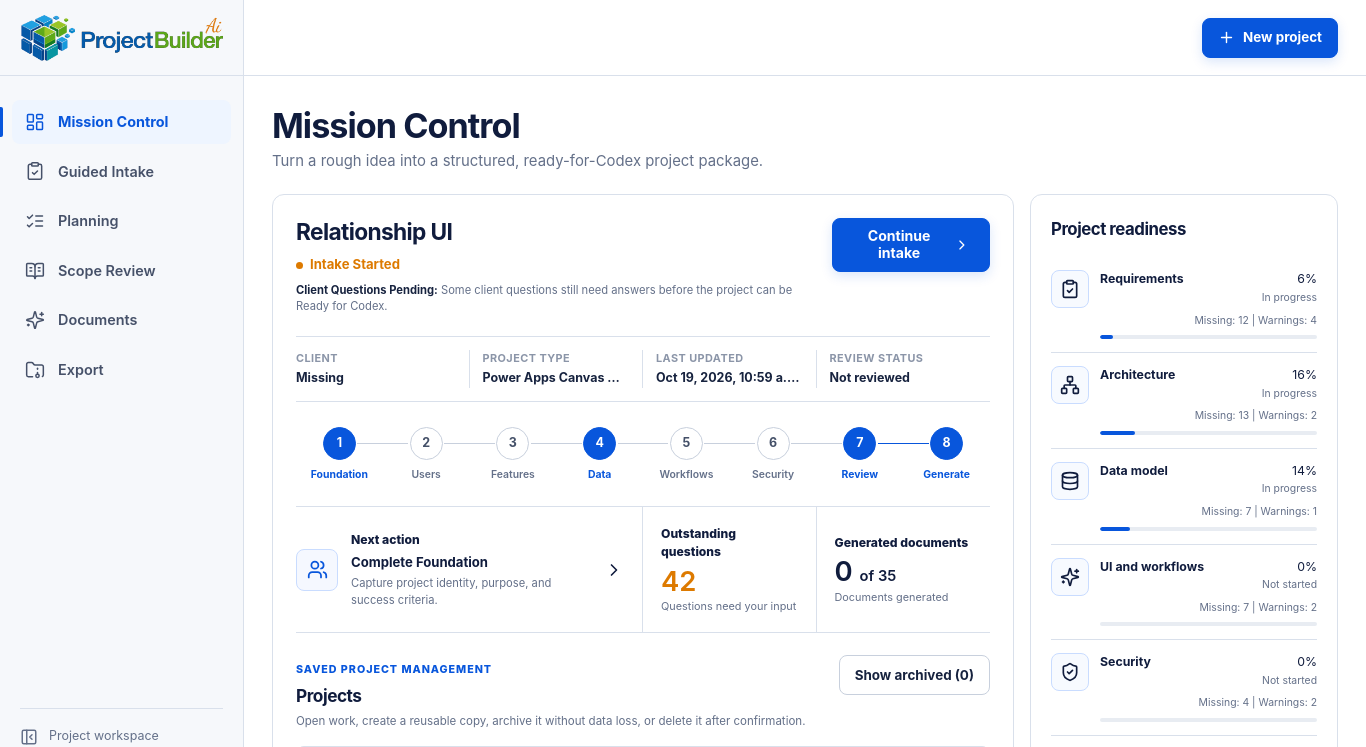
Scenario: App - power Platform Canvas › renders separated schema relationship fields through the guided intake UI
Click the button "4 Data" at (600, 454), box [556,426,643,482]
(page scrolled)
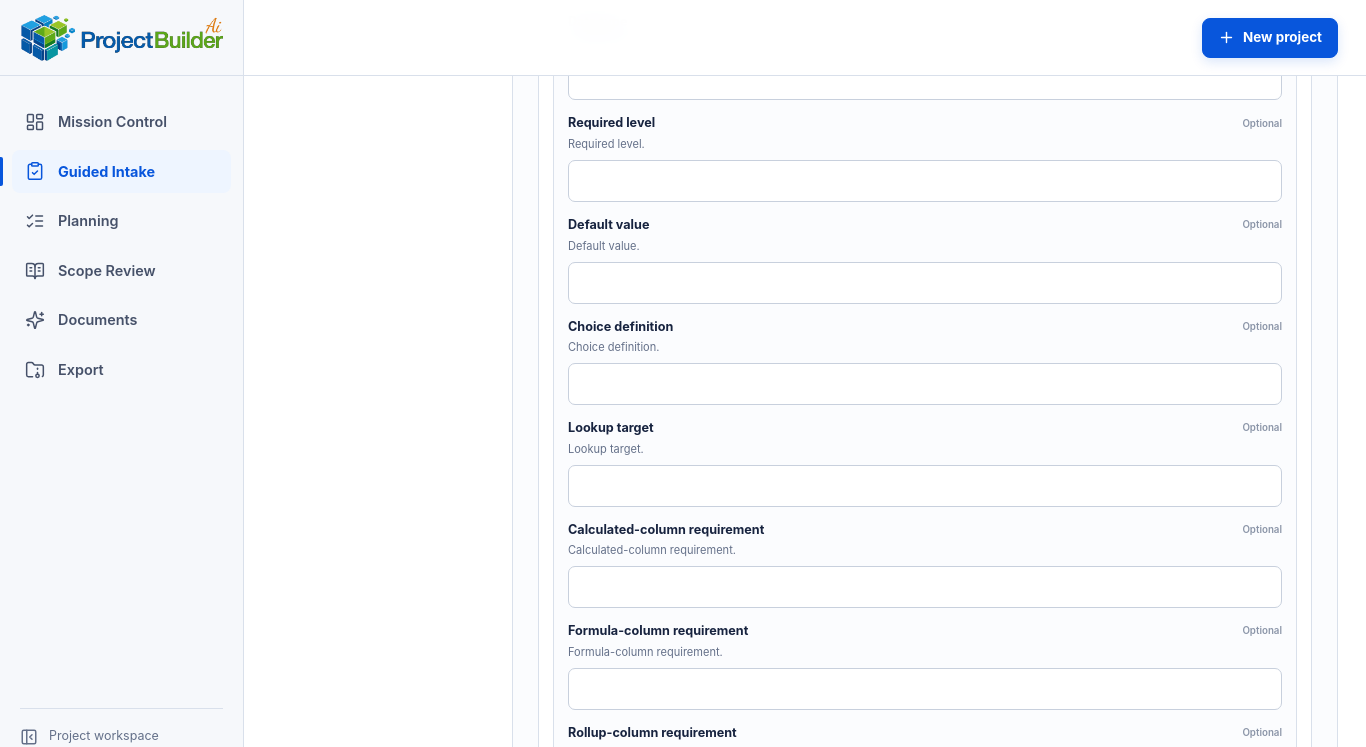
Check: the field labelled "Required level Optional" is shown, box [568,160,1282,202]
Check: the field labelled "Choice definition Optional" is shown, box [568,363,1282,405]
